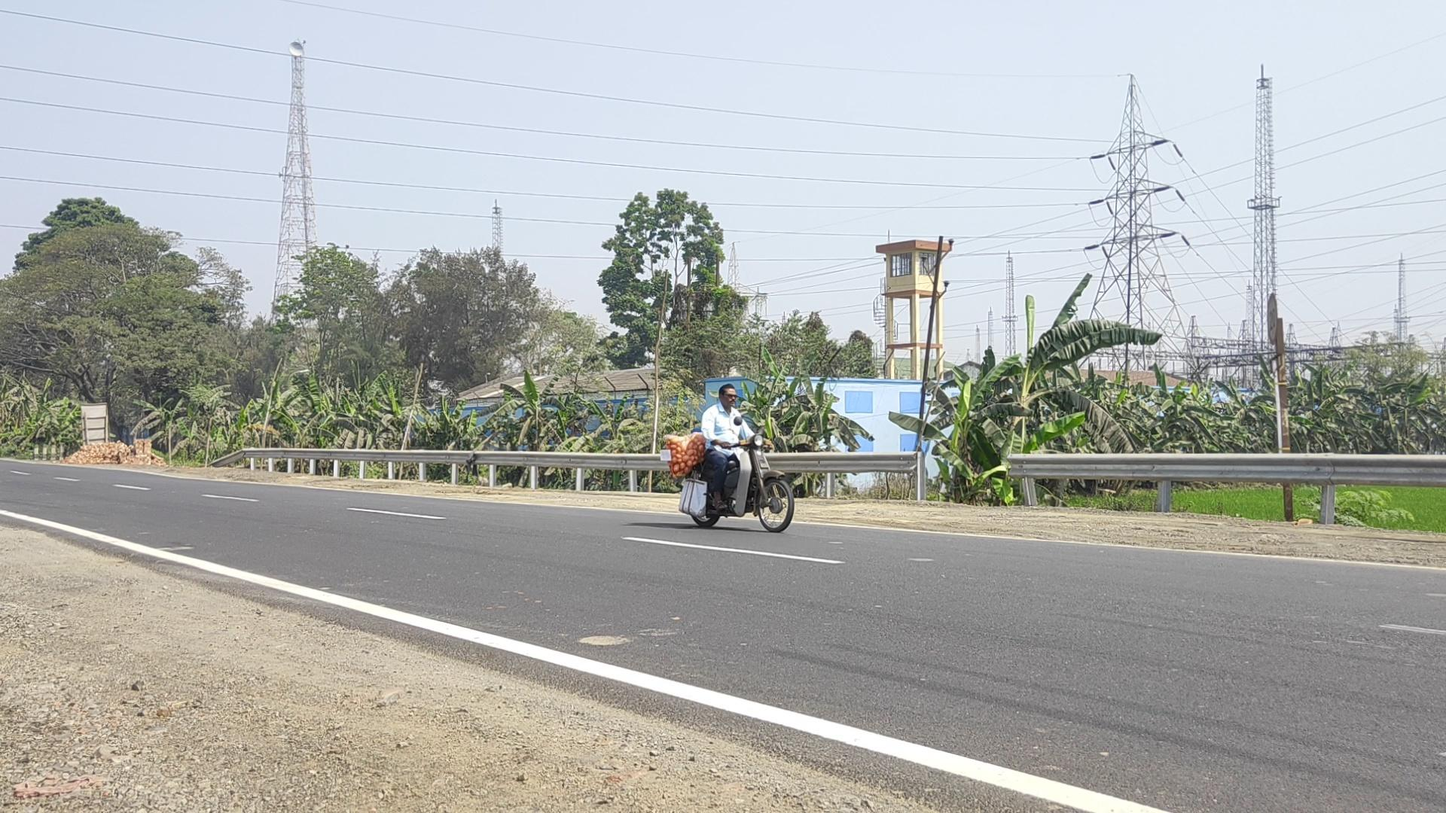bike: (664, 382, 795, 533)
